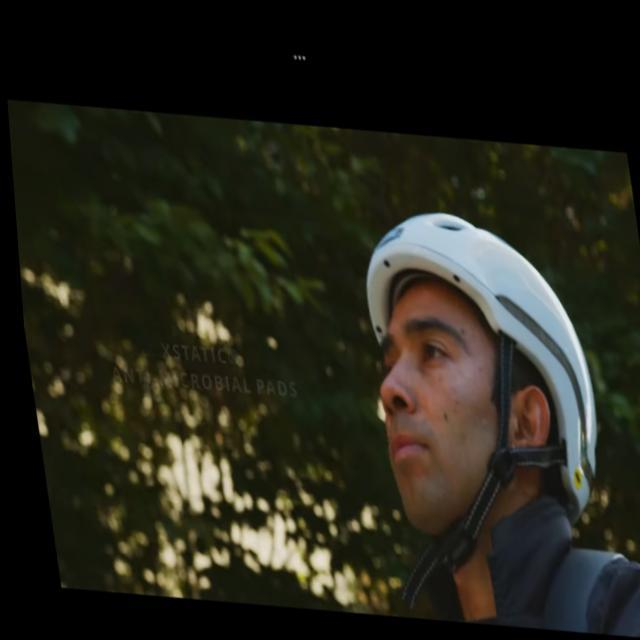Helmet: (360, 207, 602, 542)
